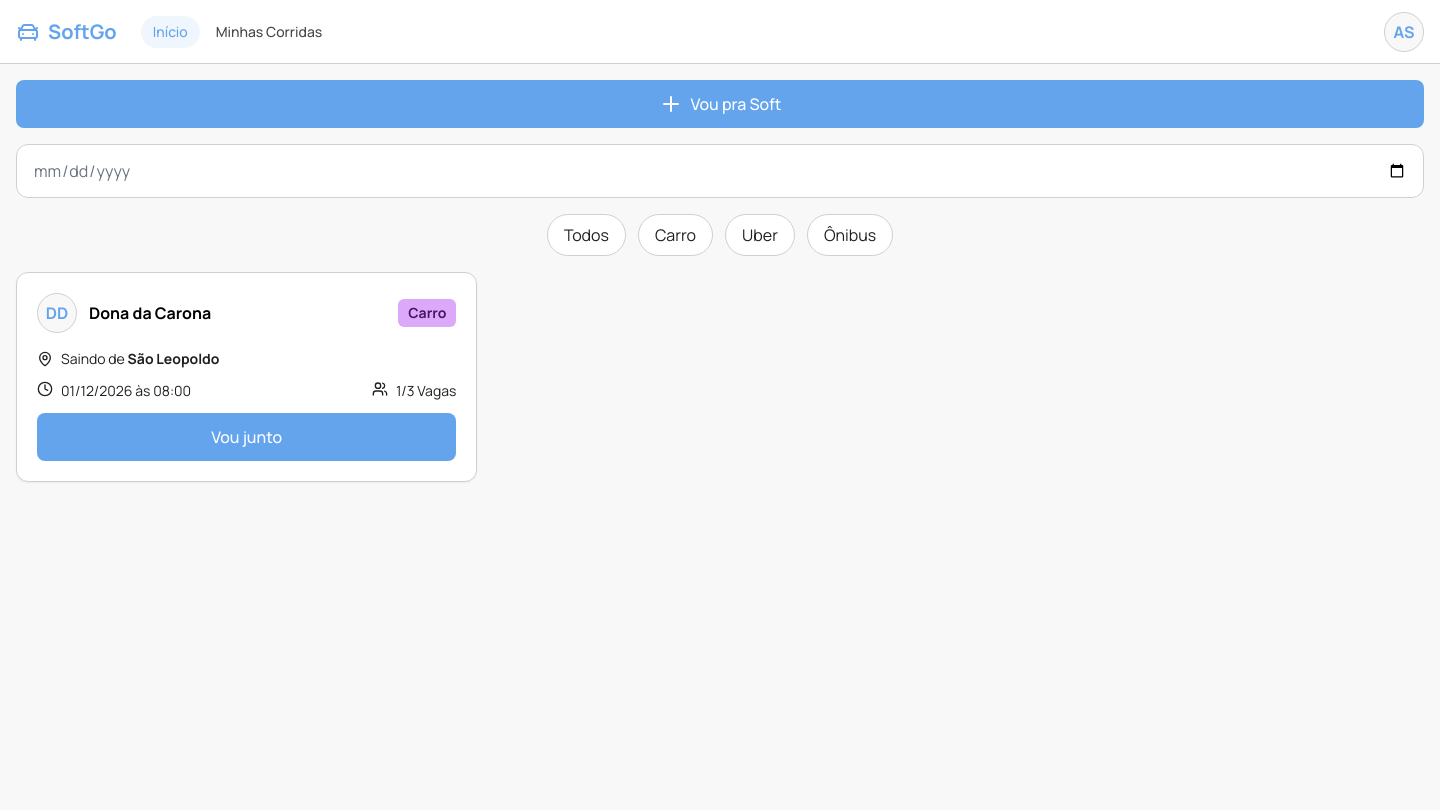
Test: Home › opens the modal for the selected ride when there is a session (JOIN-03)
The image size is (1440, 810).
Click the button "Vou junto". click: [247, 437]
box: [37,413,456,461]
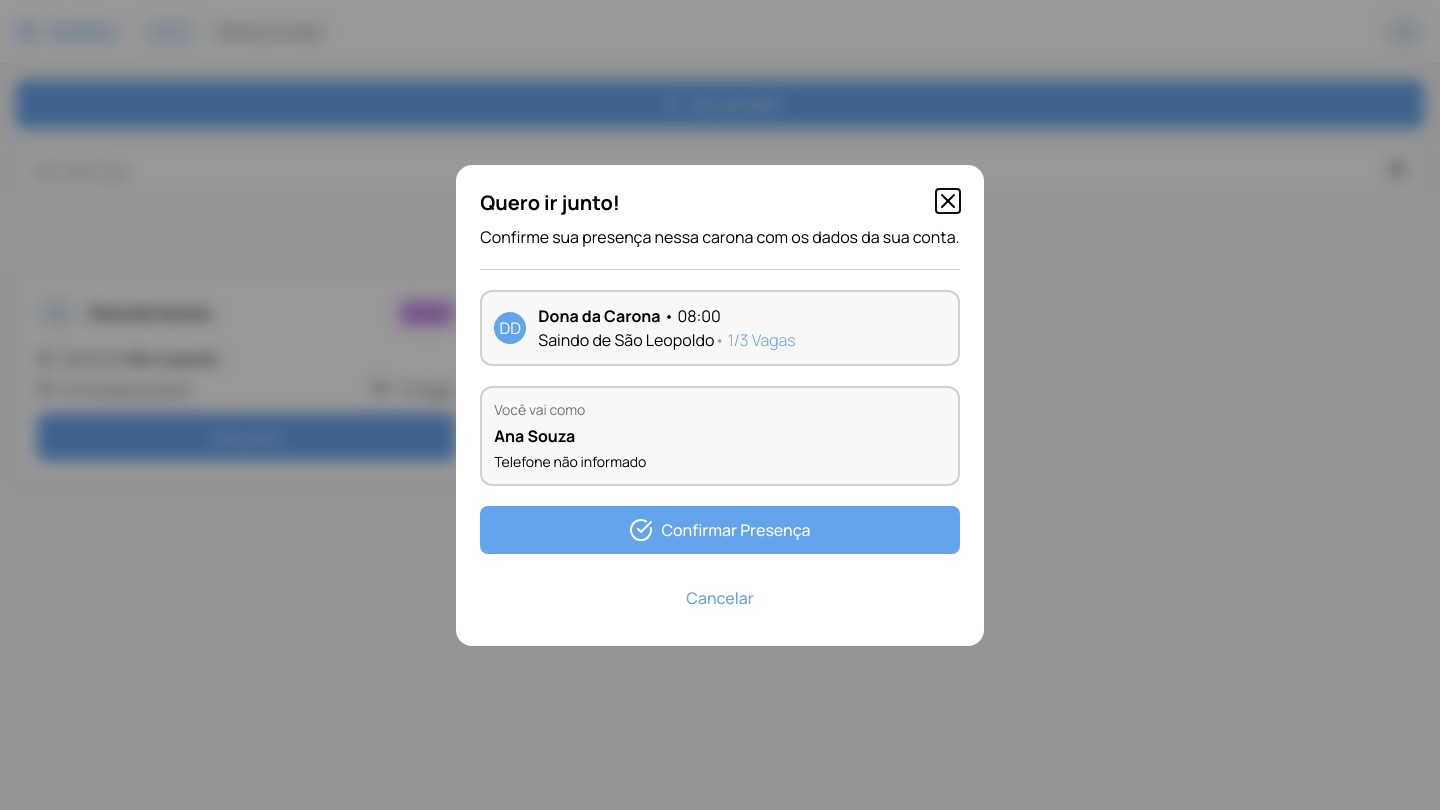
Now the heading "Quero ir junto!" is shown, box [480,188,620,216]
